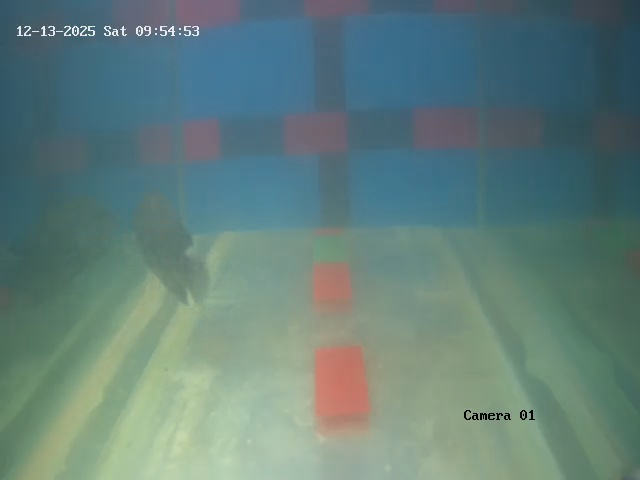fish: (122, 184, 228, 311)
